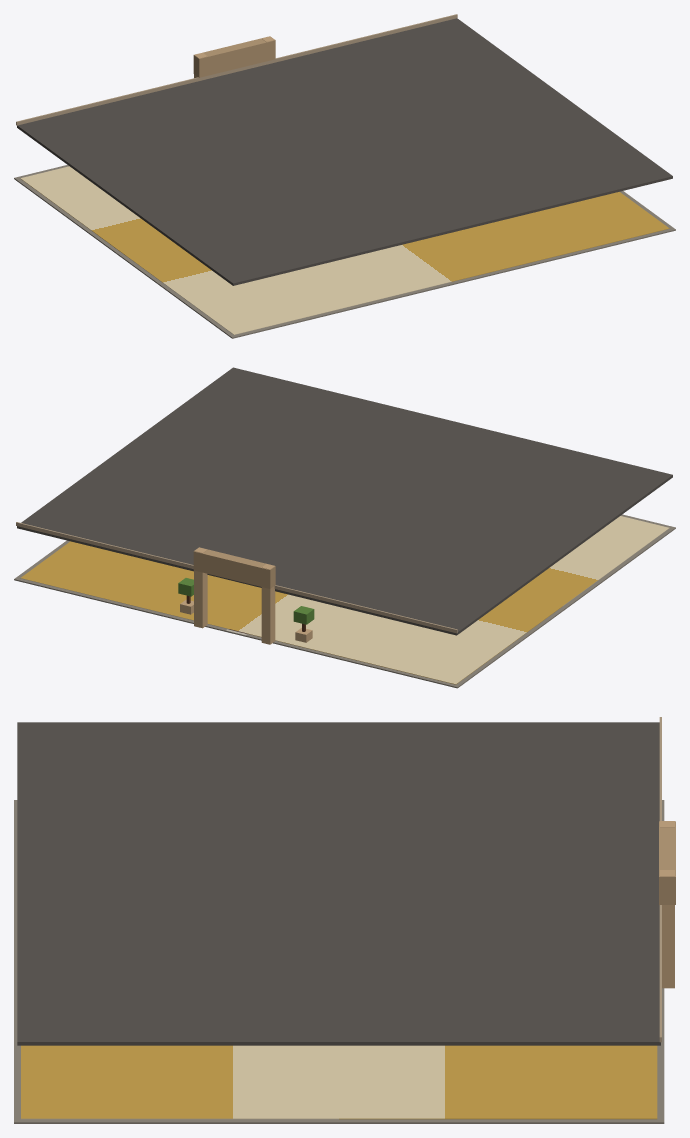
File: structure.glb
3 views of the same model, one above another, from view 1: azimuth 30°, elevation 25°; view 2: azimuth 150°, elevation 25°; view 3: azimuth 270°, elevation 25° (orthographic). The views are drawn at different scales.
Parts seen in each view (by area): view 1: Box6, Box2, Box1, Box7, Box10; view 2: Box6, Box2, Box1, Box10, Box7, Box8, Box9; view 3: Box6, Box2, Box1, Box10, Box9, Box7.
Part boxes in pixels (x1=…): Box6: x1=17, y1=18, x2=672, y2=285; Box2: x1=20, y1=166, x2=669, y2=334; Box1: x1=14, y1=165, x2=675, y2=338; Box7: x1=16, y1=14, x2=457, y2=125; Box10: x1=193, y1=38, x2=275, y2=77; Box6: x1=17, y1=367, x2=672, y2=635; Box2: x1=20, y1=516, x2=669, y2=684; Box1: x1=14, y1=514, x2=675, y2=688; Box10: x1=193, y1=549, x2=275, y2=588; Box7: x1=16, y1=522, x2=457, y2=633; Box8: x1=261, y1=564, x2=275, y2=644; Box9: x1=194, y1=547, x2=207, y2=628; Box6: x1=17, y1=722, x2=660, y2=1045; Box2: x1=21, y1=1045, x2=657, y2=1119; Box1: x1=14, y1=800, x2=664, y2=1123; Box10: x1=659, y1=821, x2=675, y2=904; Box9: x1=660, y1=870, x2=674, y2=988; Box7: x1=659, y1=717, x2=661, y2=1042.
Size of the model in its own units: 40.74 by 6.73 by 35.37.
Materials: 11 (2 with a texture image).
